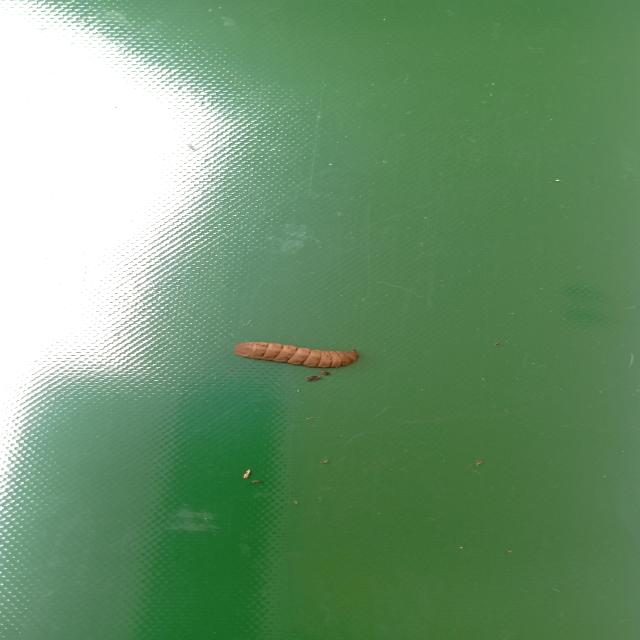Maggot: (233, 342, 360, 373)
